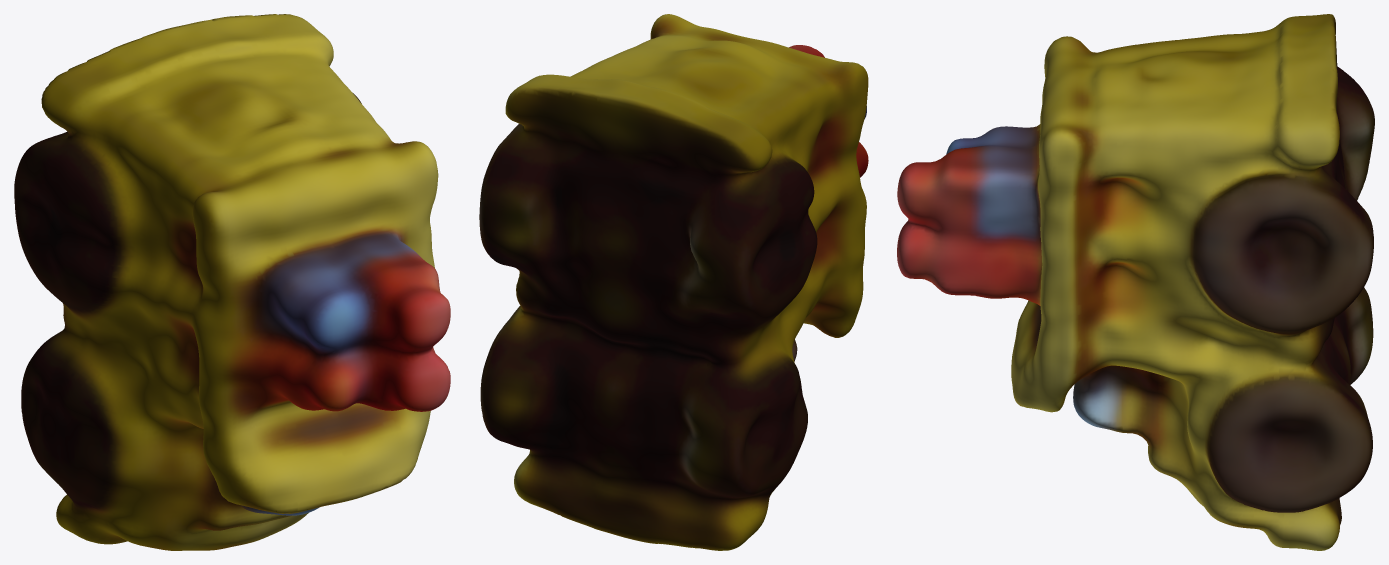
Rendered from school_bus2.glb.
3 renders of one model, left to right at view 1: azimuth 30°, elevation 25°; view 2: azimuth 150°, elevation 25°; view 3: azimuth 270°, elevation 25°, orthographic. The views are drawn at different scales.
Size of the model in its own units: 0.6615 by 0.999 by 0.9461.
